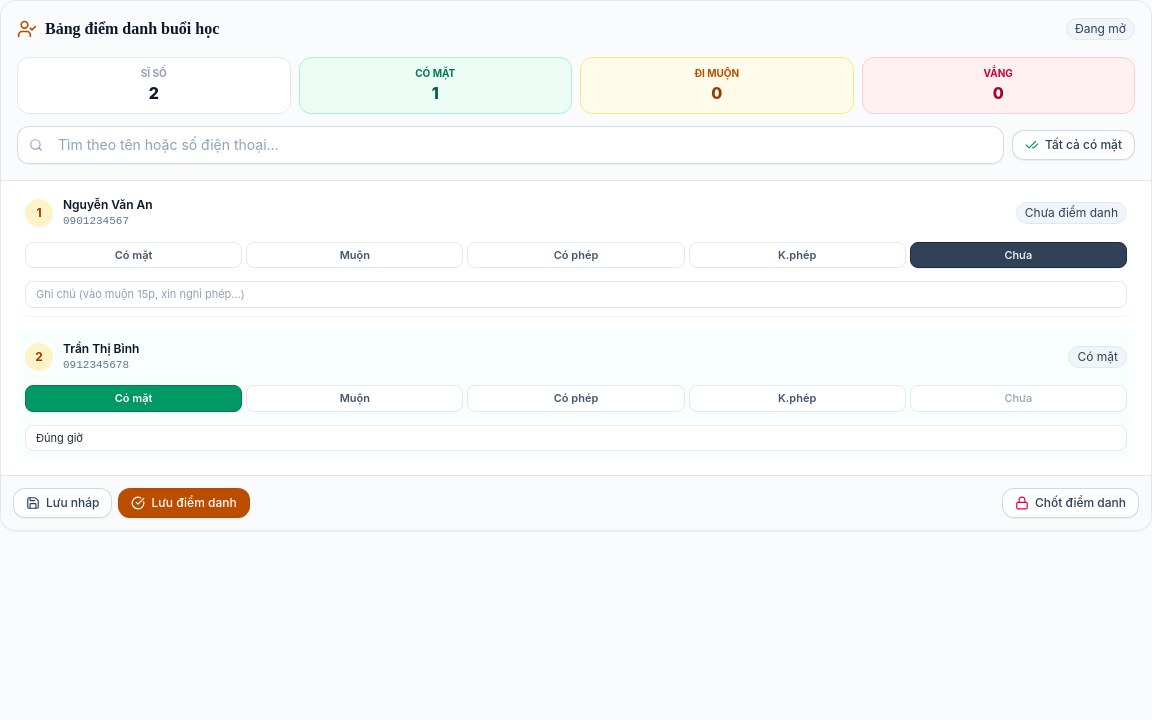
Test: OnlineMeetAttendancePanel › filters students by search input
The image size is (1152, 720).
Expected: the text "Nguyễn Văn An" is shown, [63,197,153,213]
In the field with placeholder "Tìm theo tên hoặc số điện thoại...": (510, 145) [17,126,1004,164], type "Bình"
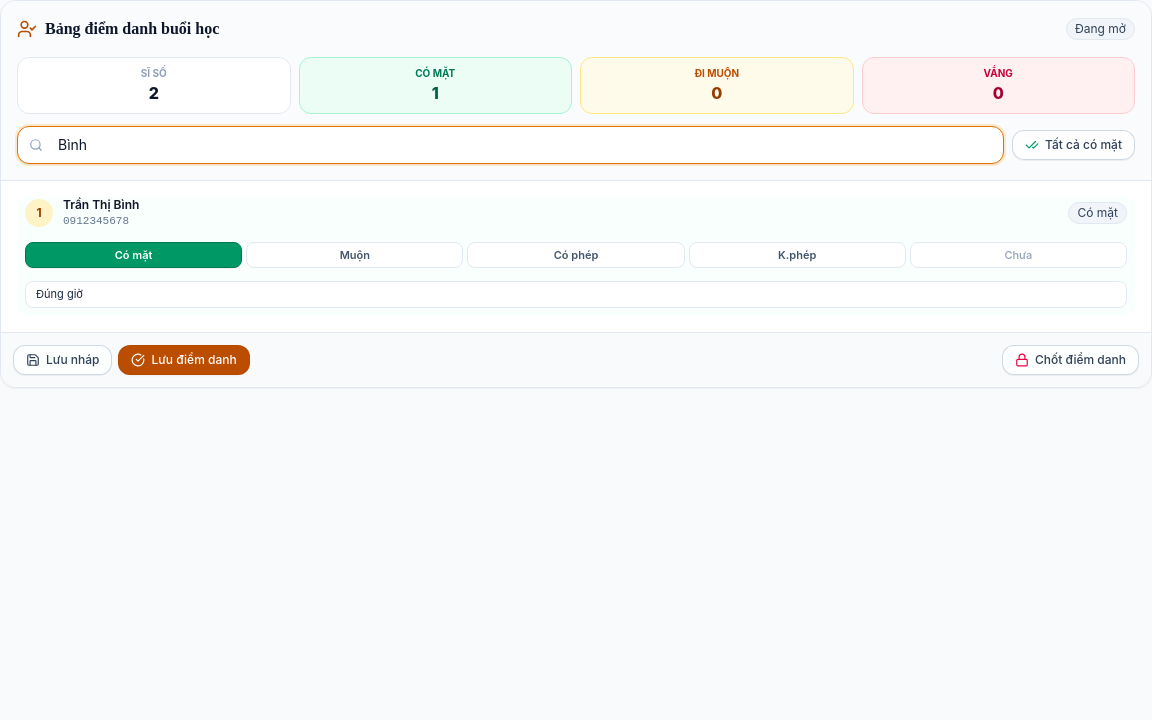
Expected: the text "Trần Thị Bình" is shown, [63,197,139,213]
Result: the text "Nguyễn Văn An" is gone
